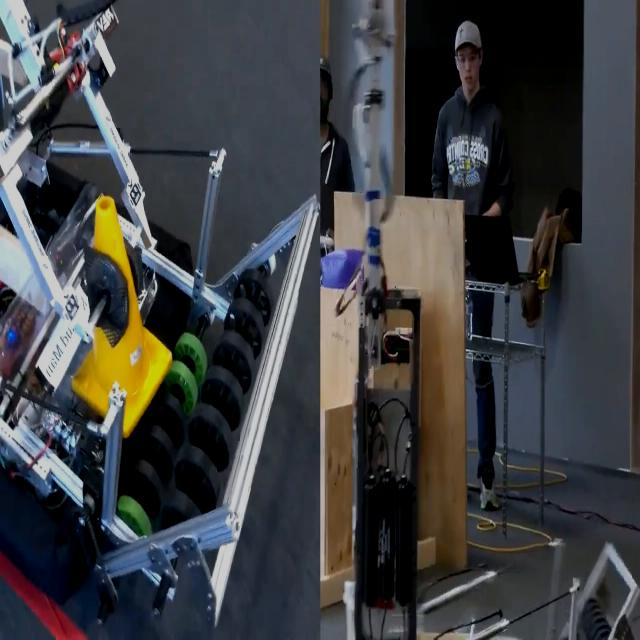frc_cone: (71, 196, 174, 427)
frc_cube: (321, 238, 369, 292)
